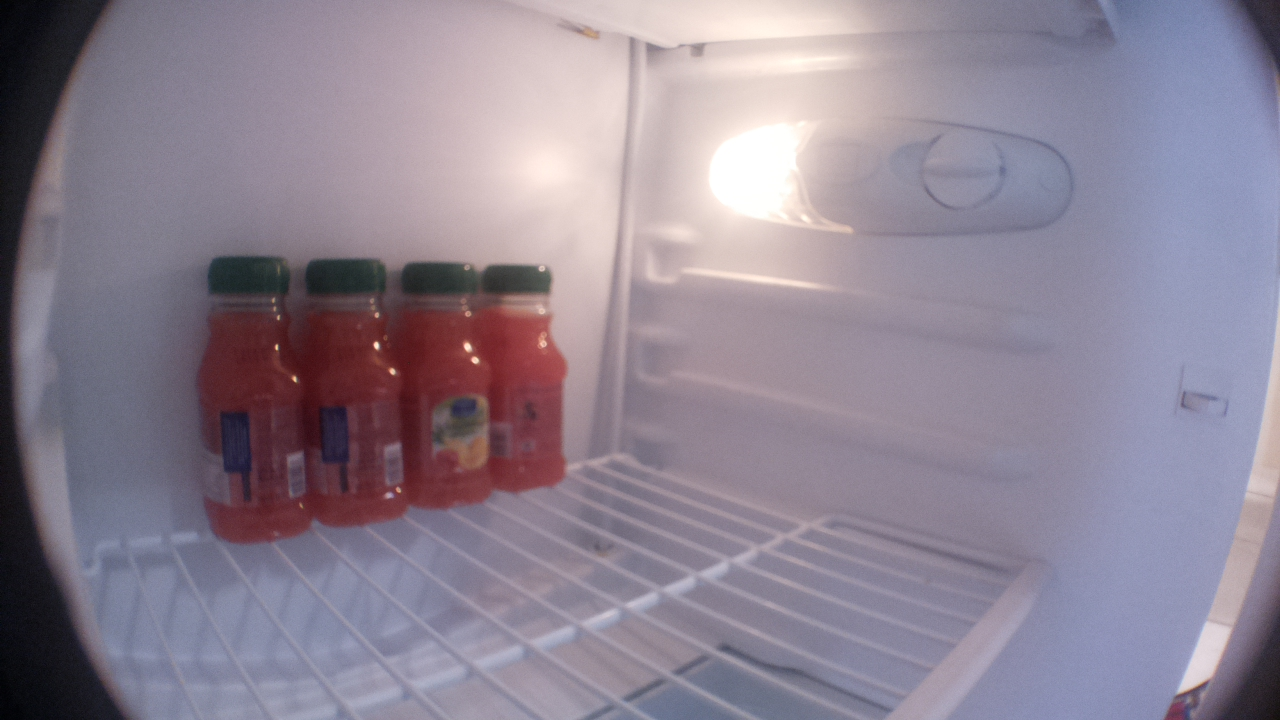juice: (189, 255, 312, 551), (299, 256, 413, 532), (405, 261, 492, 517), (484, 262, 572, 500)
